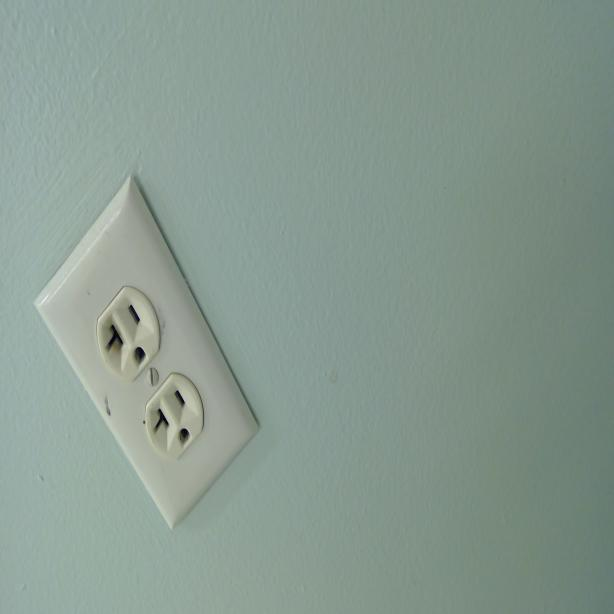typeb: (90, 290, 153, 371), (142, 383, 199, 453)
